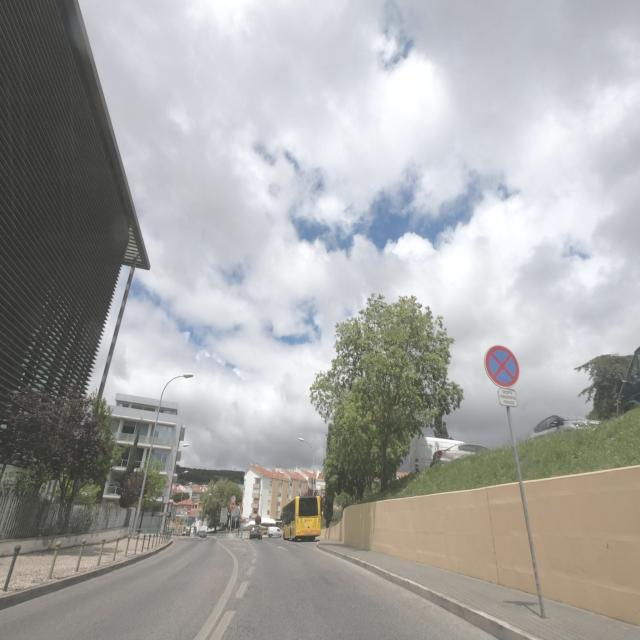car: (428, 441, 484, 470), (530, 414, 592, 436), (248, 524, 263, 540), (266, 523, 282, 538), (206, 523, 217, 534)
